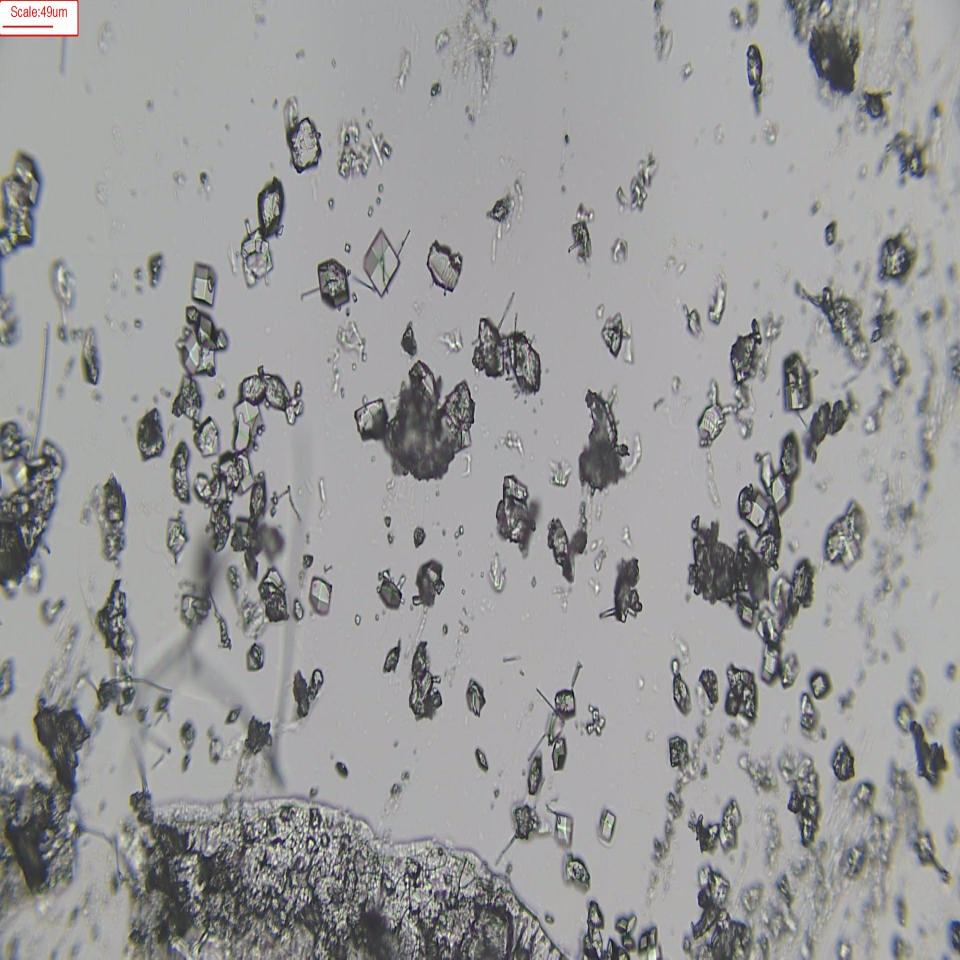crystal: (363, 224, 401, 302), (496, 476, 532, 549), (313, 250, 352, 312), (426, 240, 470, 294), (286, 109, 324, 171), (782, 350, 812, 416), (258, 180, 285, 238), (354, 400, 391, 441), (306, 574, 336, 620), (561, 852, 593, 895), (462, 672, 489, 719), (880, 238, 910, 280), (191, 260, 217, 308), (139, 416, 165, 461), (600, 313, 626, 355), (192, 418, 220, 456), (377, 578, 404, 611), (553, 809, 575, 849), (554, 686, 578, 721), (381, 643, 404, 679), (598, 805, 618, 846), (240, 375, 266, 402), (736, 592, 755, 628), (810, 670, 831, 700), (553, 733, 569, 771), (529, 754, 543, 795), (473, 743, 490, 773)
not_crystal: (408, 364, 467, 458), (738, 476, 785, 571), (472, 318, 537, 386), (688, 526, 734, 599), (196, 459, 248, 503)
